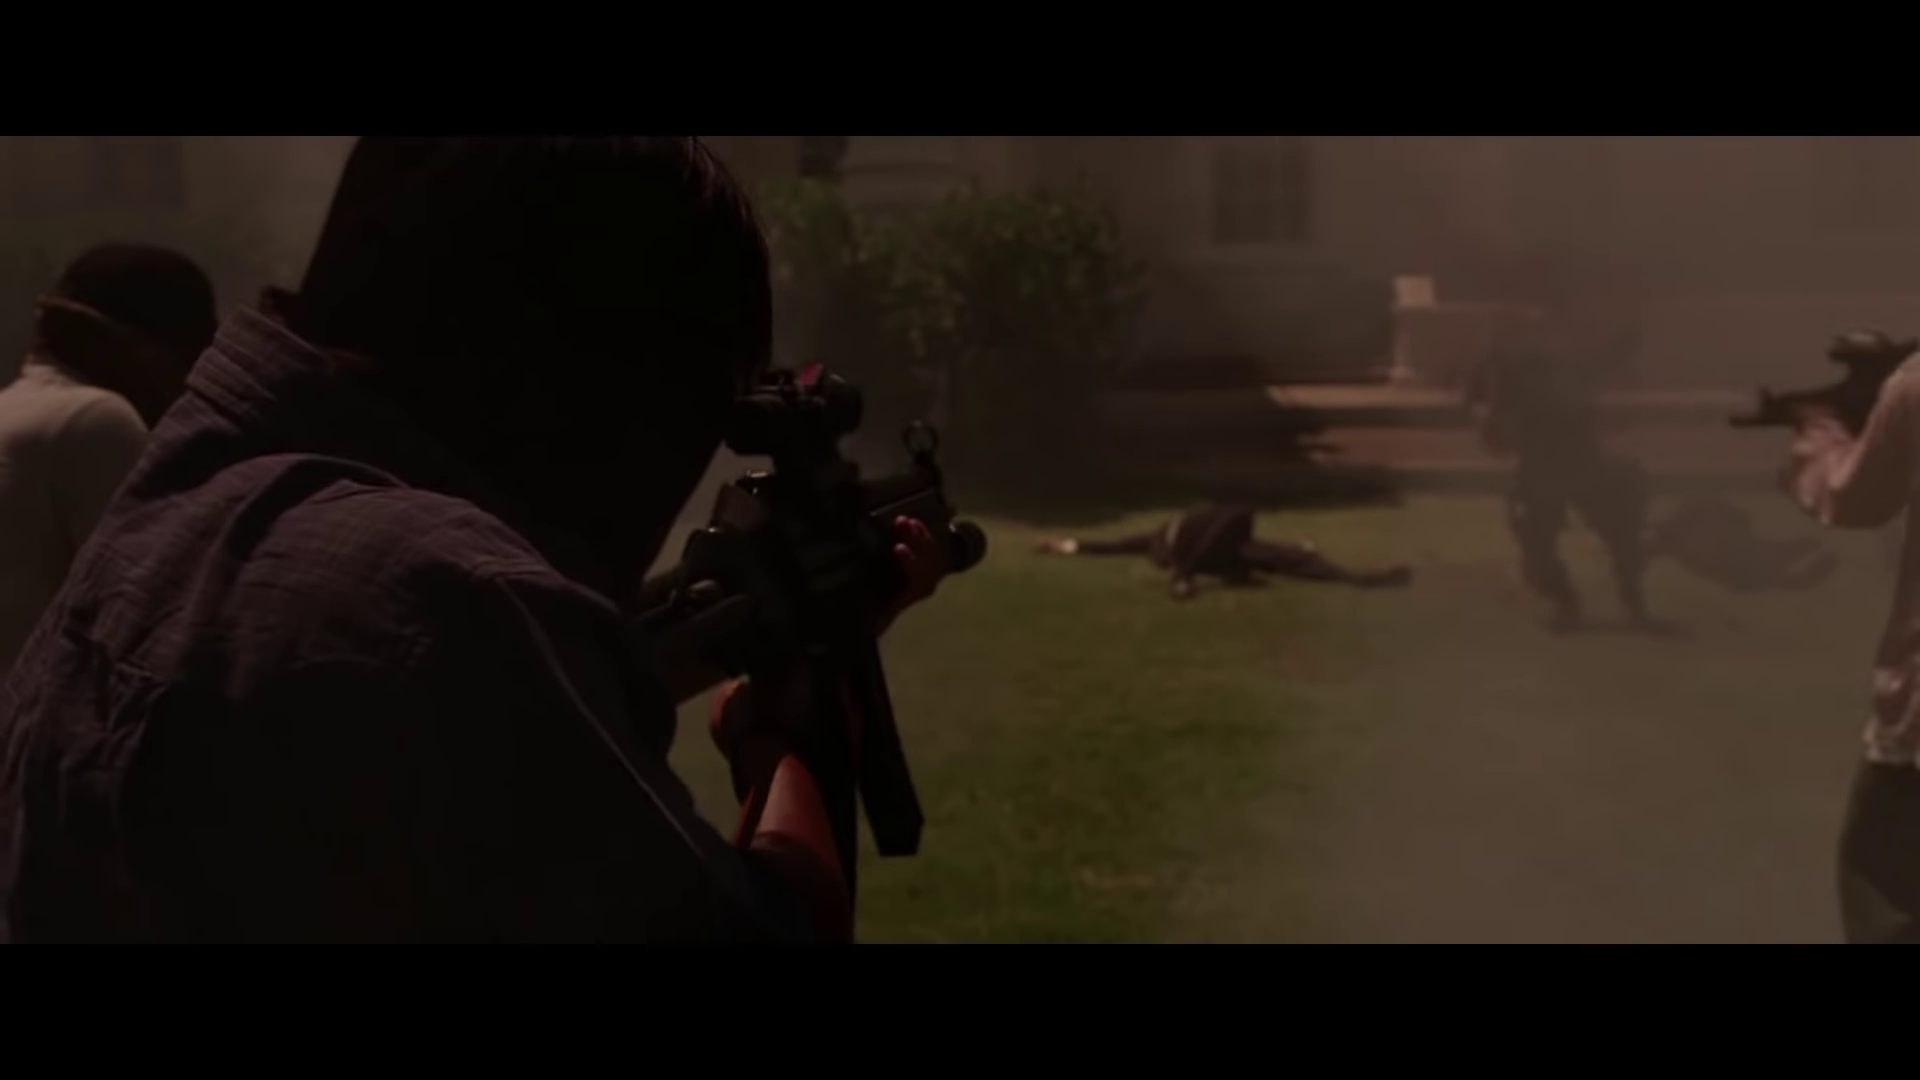gun: (597, 356, 993, 868), (1724, 328, 1915, 436)
p_w_gun: (0, 125, 1006, 947), (1724, 316, 1920, 944)
p_wo_gun_not_carrying_normal_pose: (1035, 497, 1416, 601)
